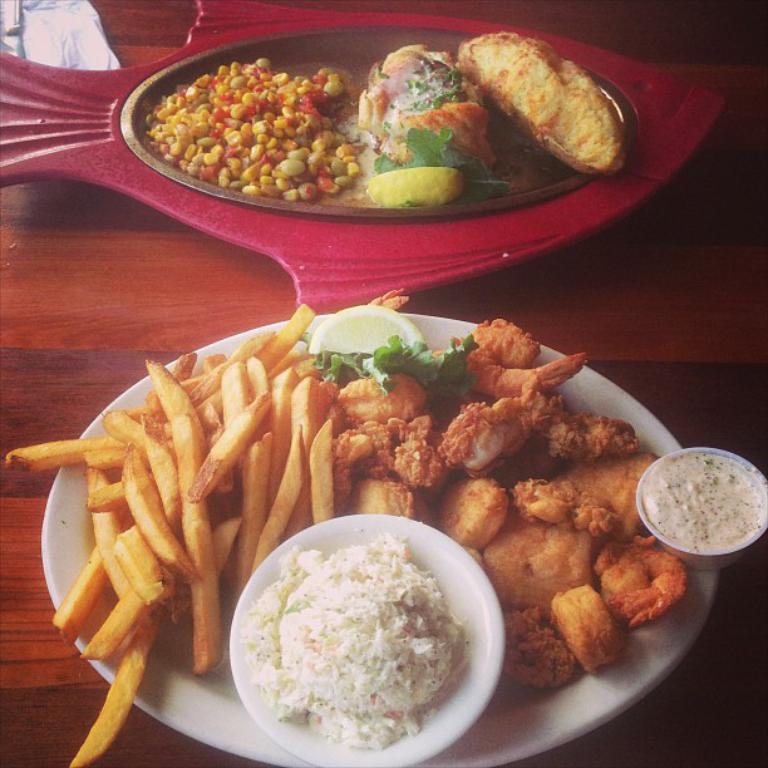French fries: (38, 303, 370, 697)
